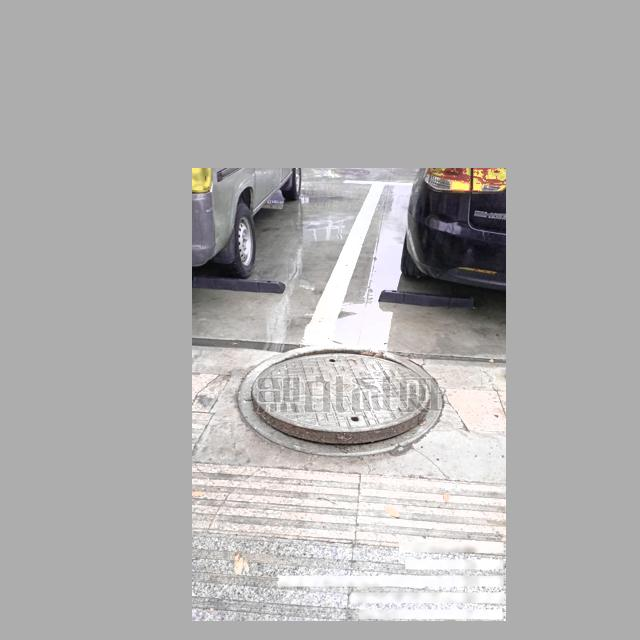uncovered: (237, 345, 445, 455)
